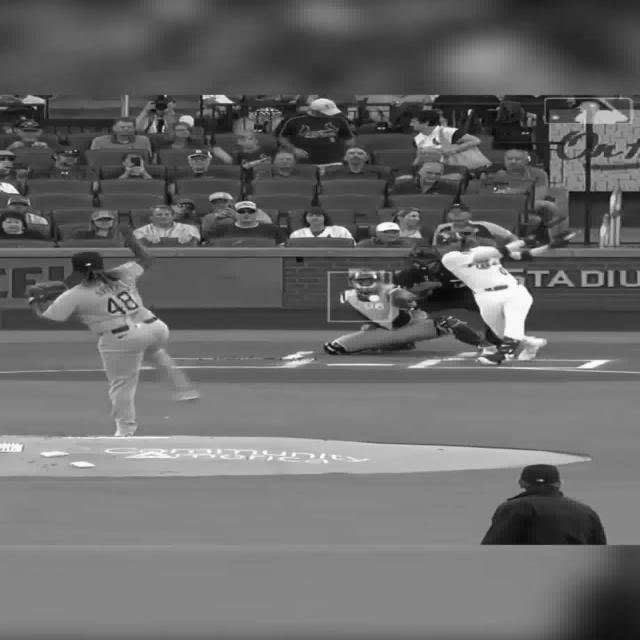base: (325, 364, 394, 366)
baseball_glove: (28, 282, 71, 303), (389, 292, 419, 310)
bat: (567, 211, 623, 239)
shoe: (516, 338, 544, 360), (475, 353, 512, 366), (115, 427, 144, 438), (172, 392, 199, 402)
